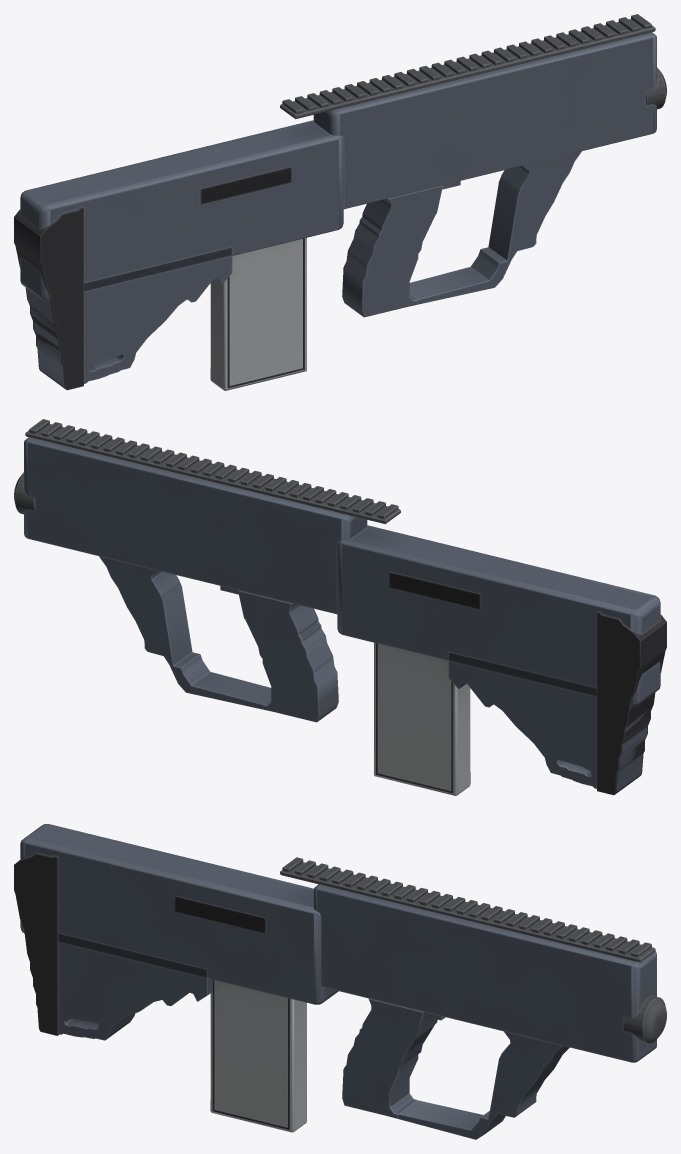
Rendered from AT_AUGA5.fbx.
3 renders of one model, top to bottom at view 1: azimuth 30°, elevation 25°; view 2: azimuth 150°, elevation 25°; view 3: azimuth 330°, elevation 25°, orthographic.
Parts seen in each view (by area): view 1: AT_AUGA5; view 2: AT_AUGA5; view 3: AT_AUGA5.
Part boxes in pixels (left/top/right/bottom): AT_AUGA5: left=14, top=14, right=666, bottom=390; AT_AUGA5: left=14, top=419, right=666, bottom=795; AT_AUGA5: left=14, top=824, right=666, bottom=1139.
Bounding box in the file's own units: 0.4923 × 0.1963 × 0.036.
1 material, 1 textured.
